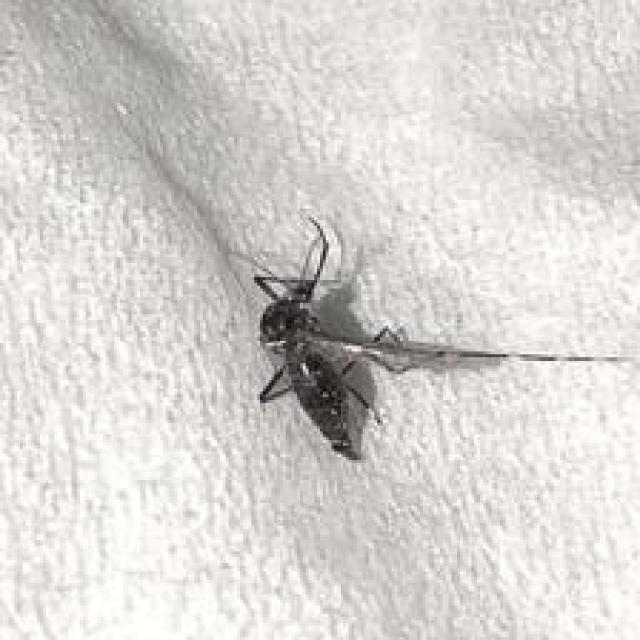Aedes albopictus: (228, 211, 640, 462)
